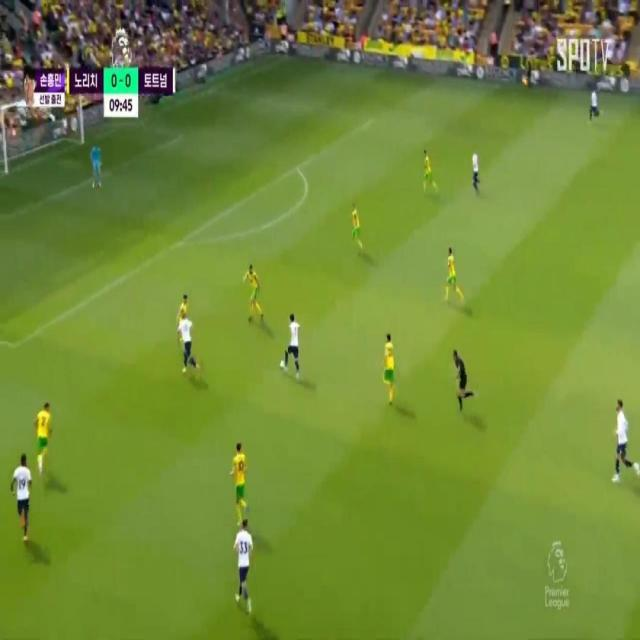ball: (279, 351, 285, 370)
goalkeeper: (88, 134, 110, 195)
player: (8, 449, 36, 542), (231, 517, 260, 604), (612, 395, 634, 484), (33, 396, 53, 483), (380, 331, 398, 395), (285, 310, 301, 380), (234, 441, 248, 519), (443, 246, 461, 300), (180, 306, 194, 368), (249, 264, 261, 328), (468, 150, 480, 197), (422, 145, 434, 191), (350, 200, 360, 249), (589, 84, 601, 123)
referee: (451, 342, 470, 407)
